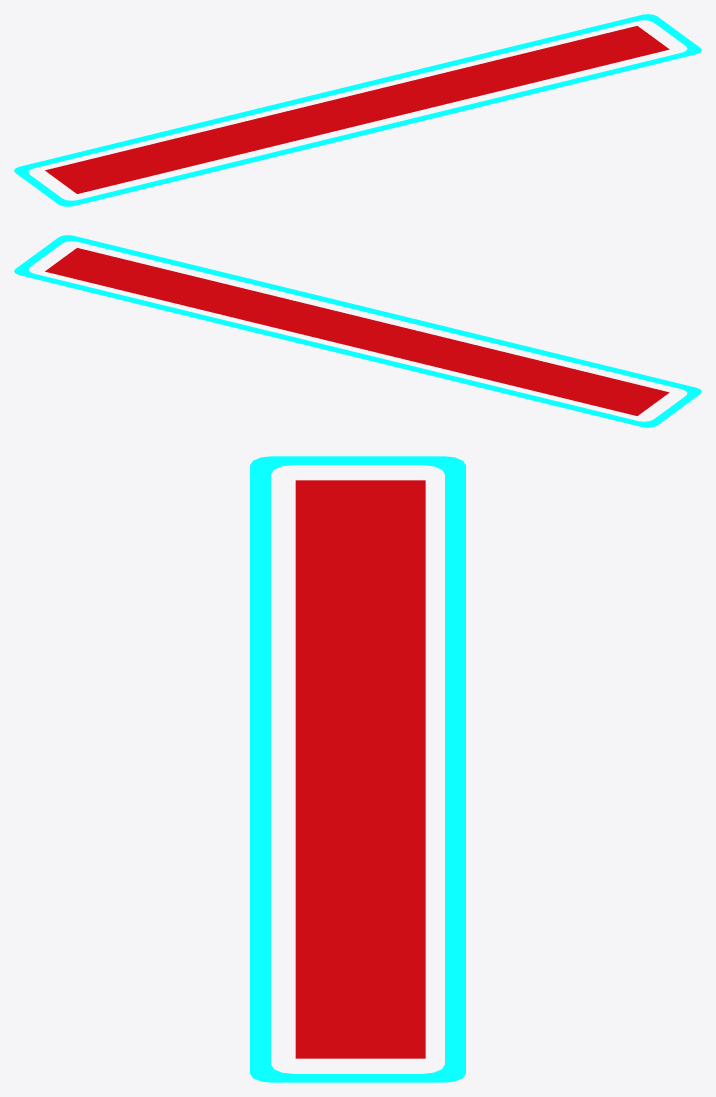
The model's file is UI_bar1-red.glb.
3 views of the same model, one above another, from view 1: azimuth 30°, elevation 25°; view 2: azimuth 150°, elevation 25°; view 3: azimuth 270°, elevation 25° (orthographic). The views are drawn at different scales.
Parts seen in each view (by area): view 1: bar1-red; view 2: bar1-red; view 3: bar1-red.
Boxes of the visible parts, left/top/right/bottom form: bar1-red: left=14, top=14, right=701, bottom=206; bar1-red: left=14, top=235, right=701, bottom=427; bar1-red: left=250, top=456, right=465, bottom=1082.
Size of the model in its own units: 2 by 0 by 0.2916.
